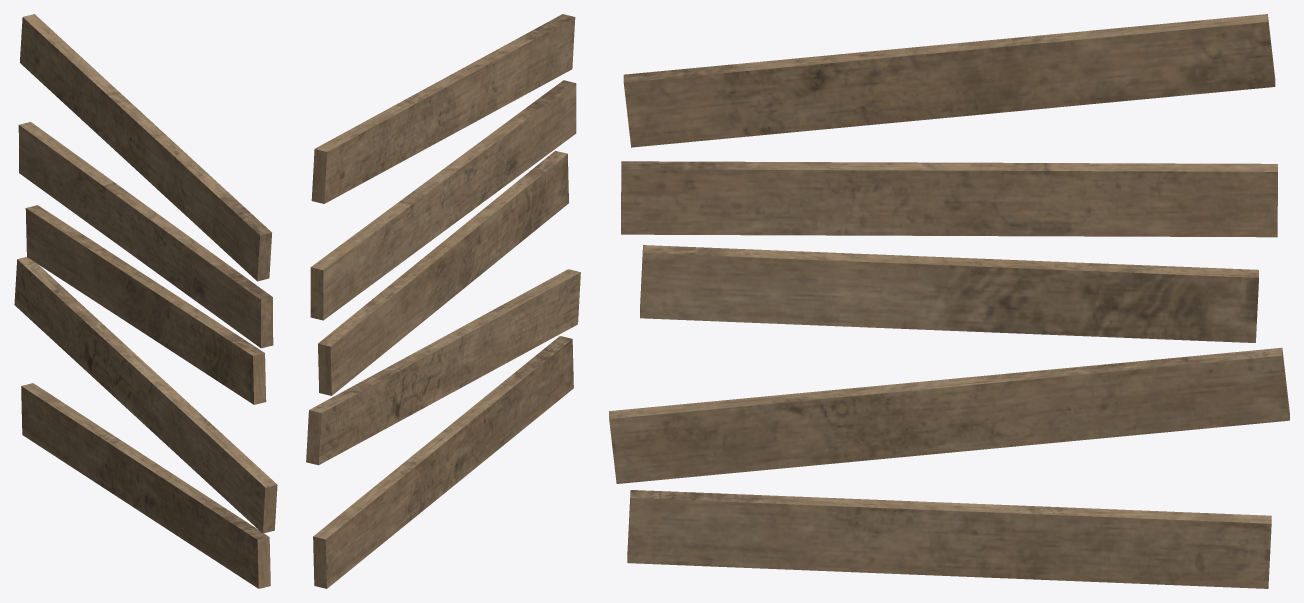
The model's file is Window_Planked.fbx.
3 views of the same model, side by side, from view 1: azimuth 30°, elevation 25°; view 2: azimuth 150°, elevation 25°; view 3: azimuth 270°, elevation 25° (orthographic). The views are drawn at different scales.
Parts seen in each view (by area): view 1: Cube.096; view 2: Cube.096; view 3: Cube.096.
Part boxes in pixels (x1,y1,x2,y2): Cube.096: [14, 14, 277, 588]; Cube.096: [306, 14, 580, 588]; Cube.096: [609, 14, 1289, 588].
Size of the model in its own units: 2.71 by 89.52 by 97.4.
